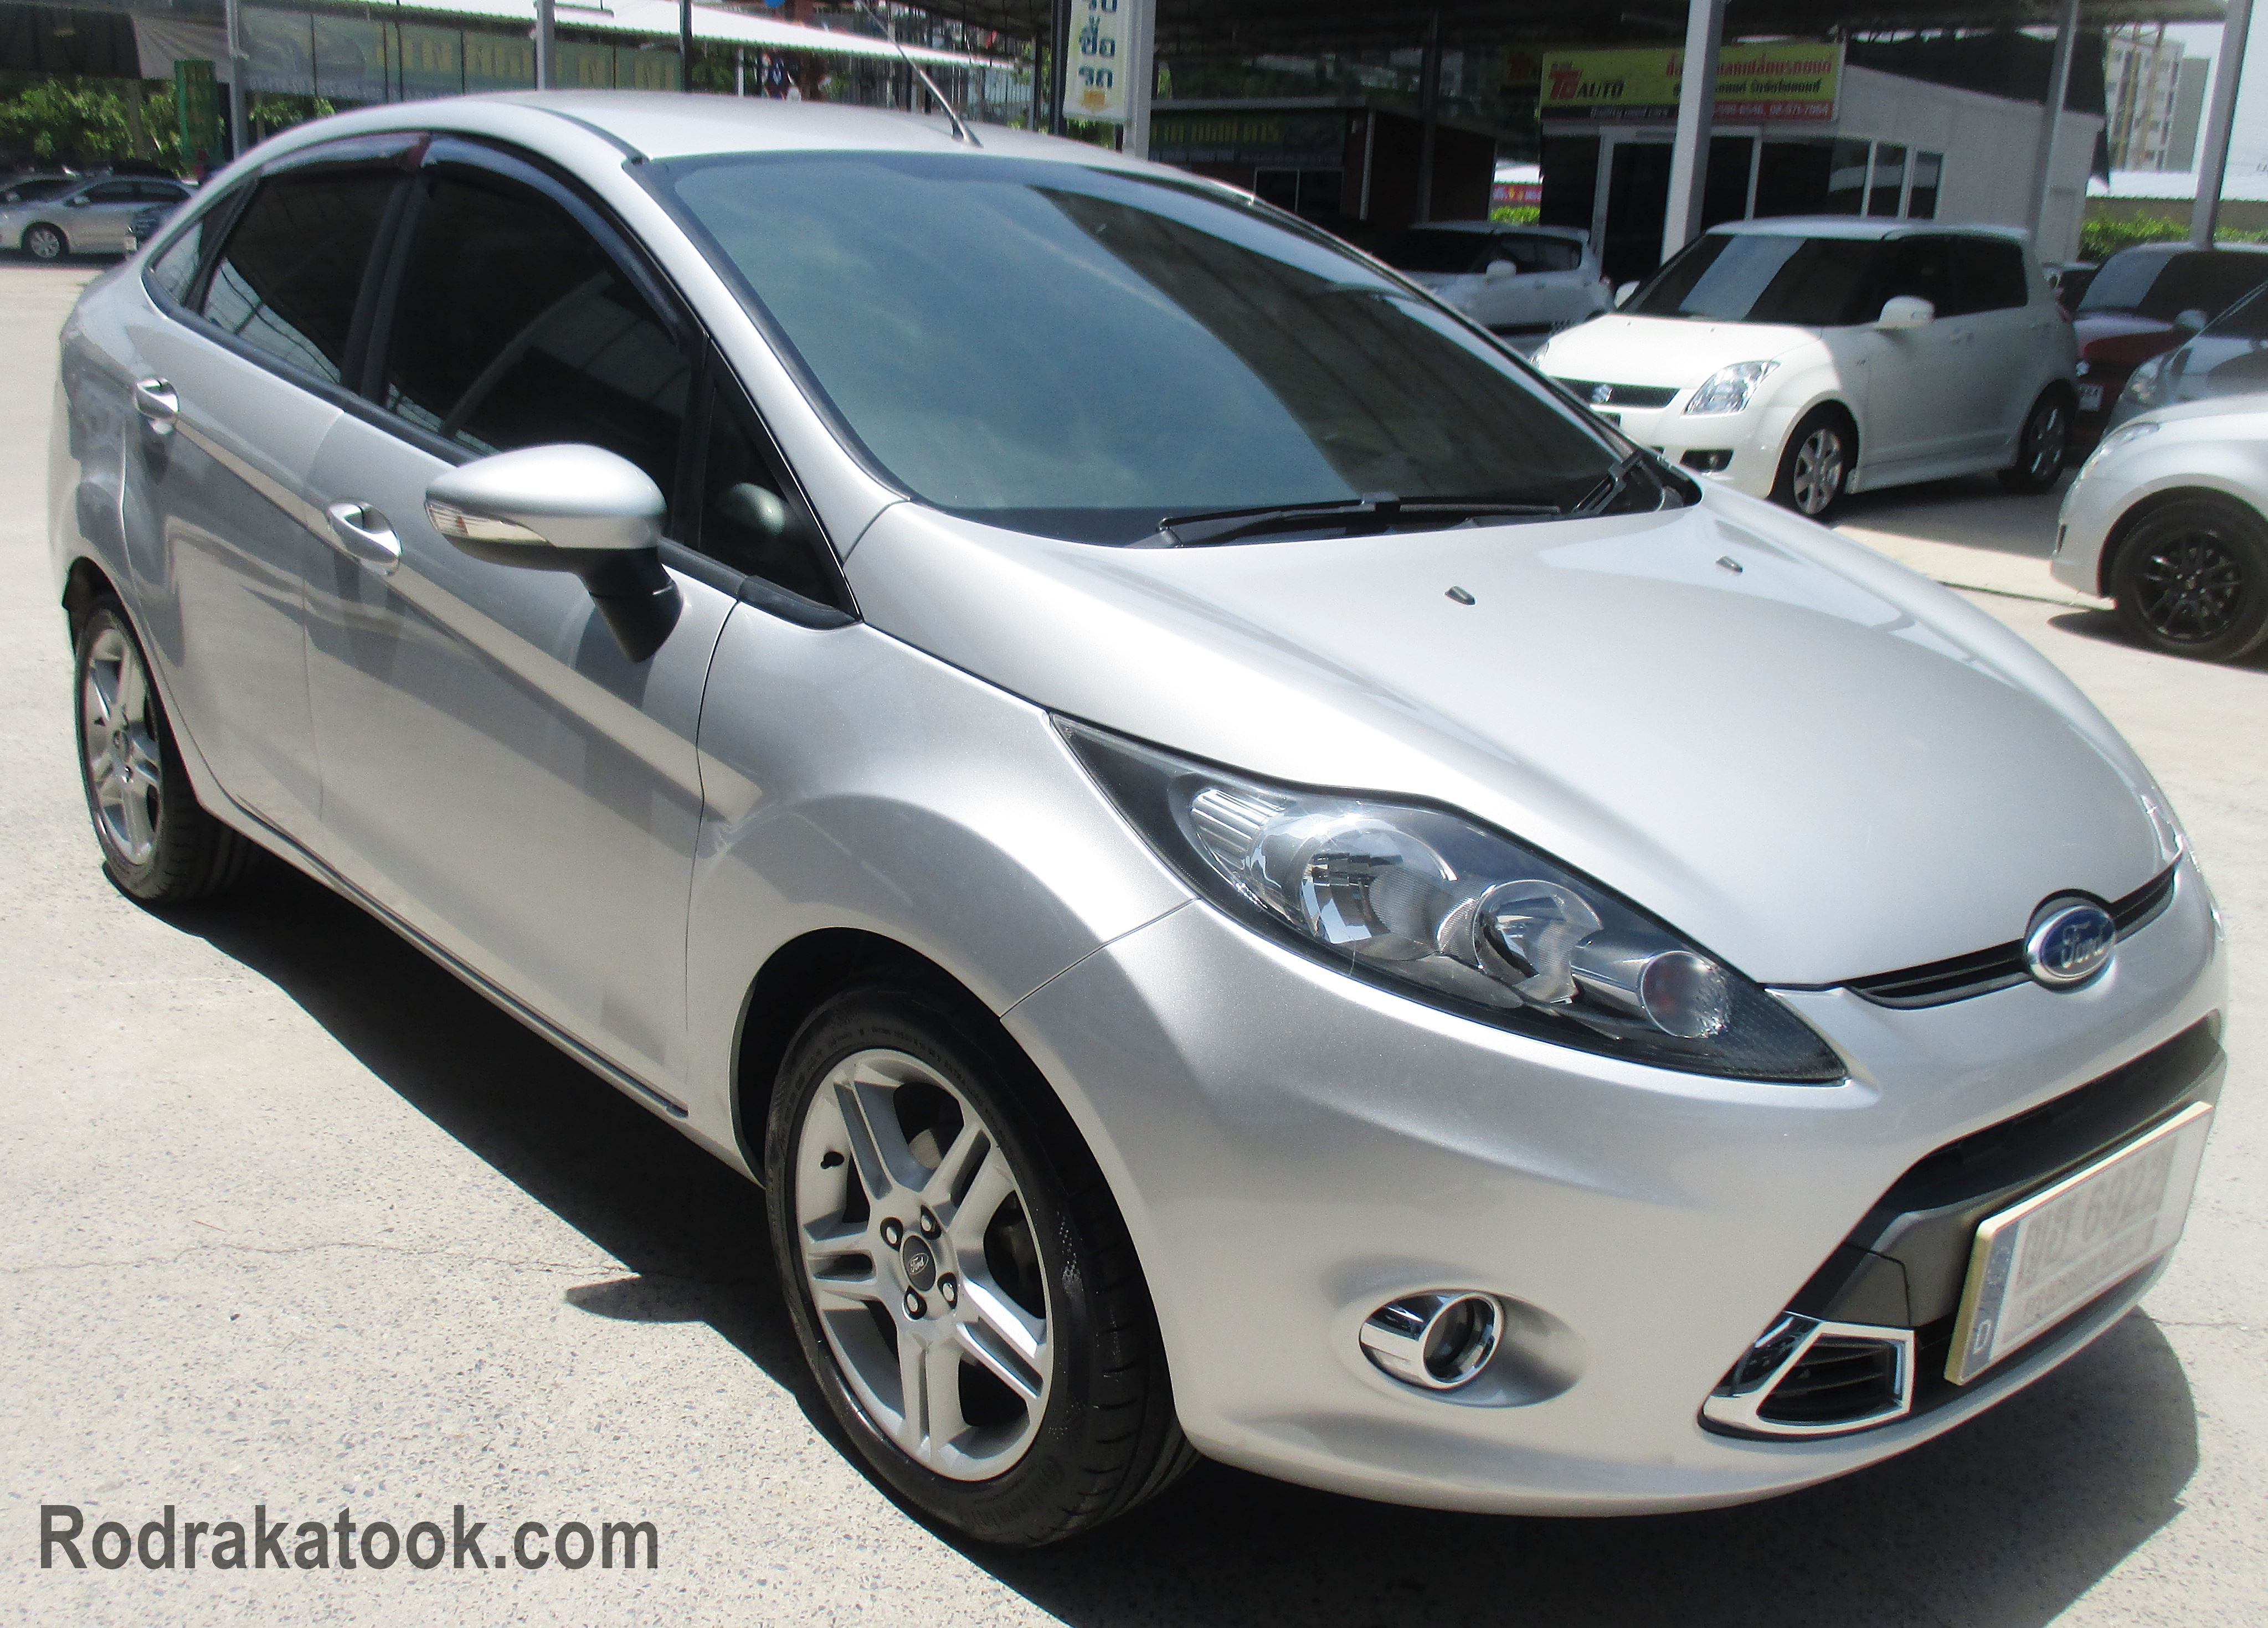sedan: (32, 79, 2233, 1507)
